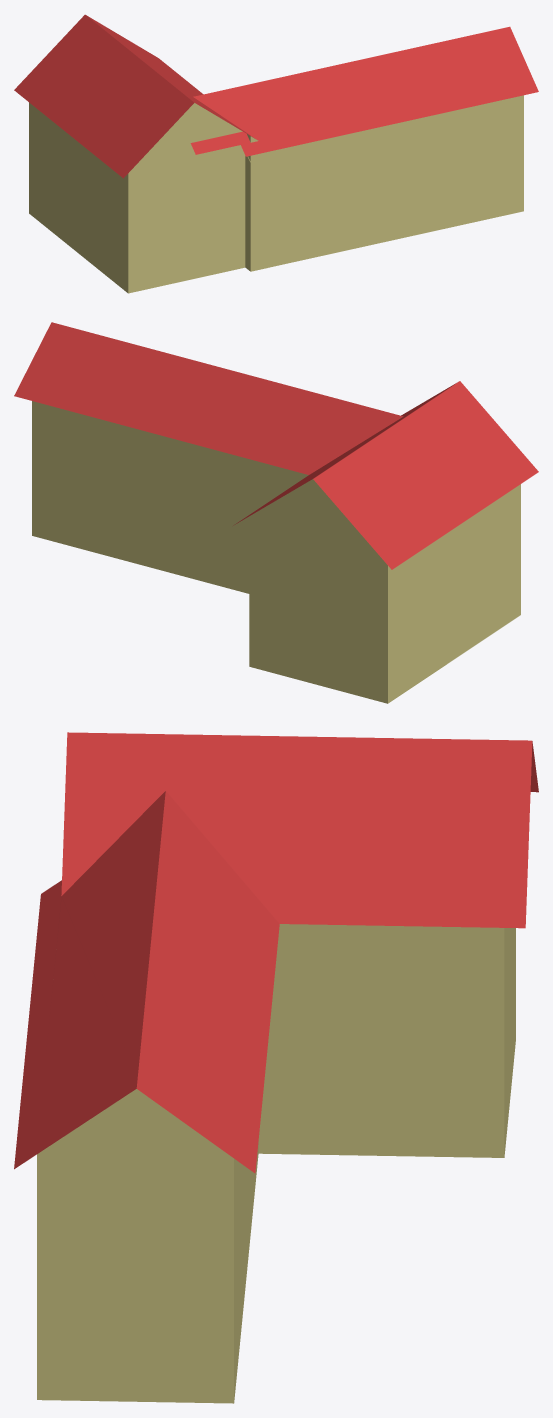
The picture shows the model from 3 angles, top to bottom: view 1: azimuth 30°, elevation 25°; view 2: azimuth 150°, elevation 25°; view 3: azimuth 270°, elevation 25°; orthographic projection. The views are drawn at different scales.
Size of the model in its own units: 31.21 by 17.77 by 13.37.
